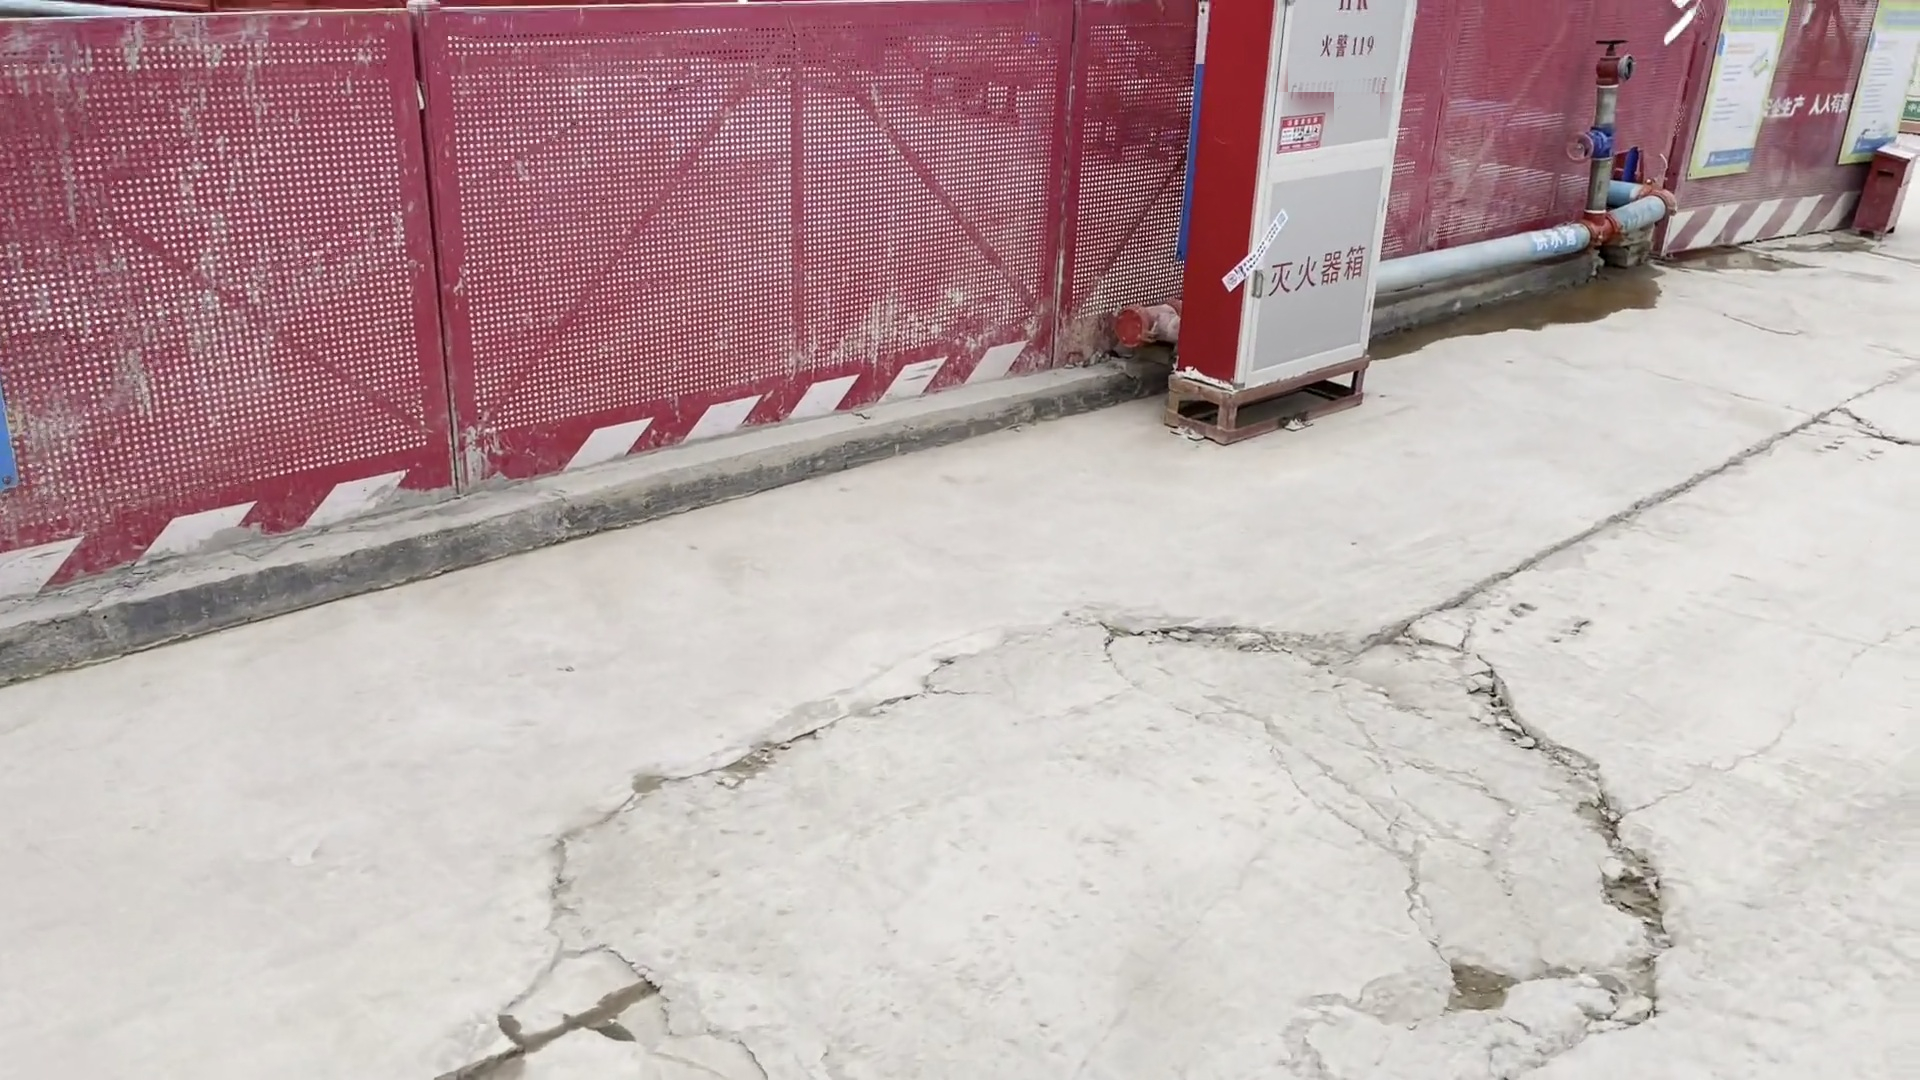fence: (18, 26, 1116, 498)
